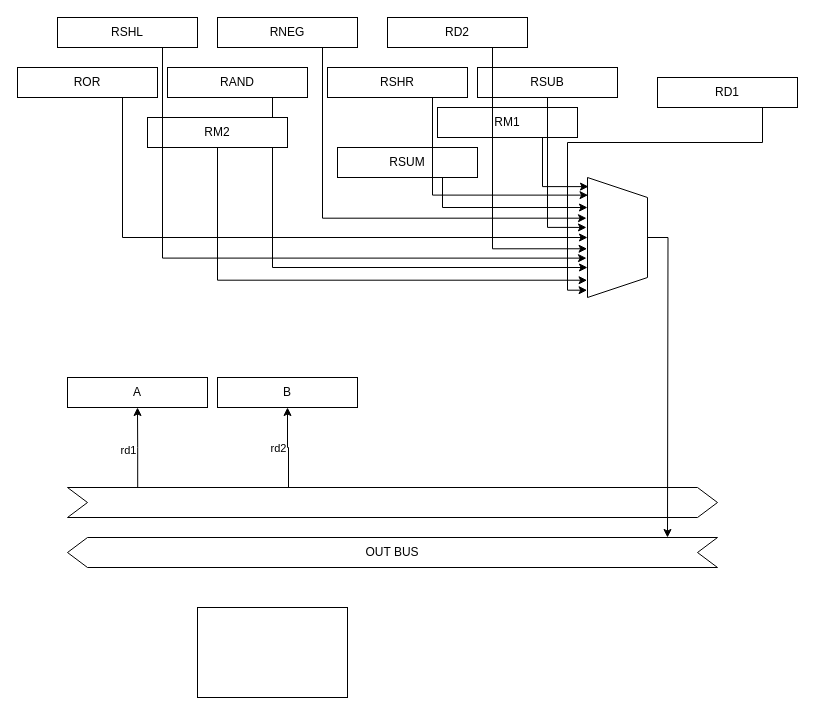
Some shapes in this 815 by 715 pixel diagram are drawn without their labels. The shapes that lost their labels are listed below. From the top down, each one's box as (x1, y1, x2, y2) in pixels, then its label:
(586, 176, 648, 298): MUX
(66, 486, 718, 518): IN BUS
(196, 606, 348, 698): ALU CONTROL UNIT
